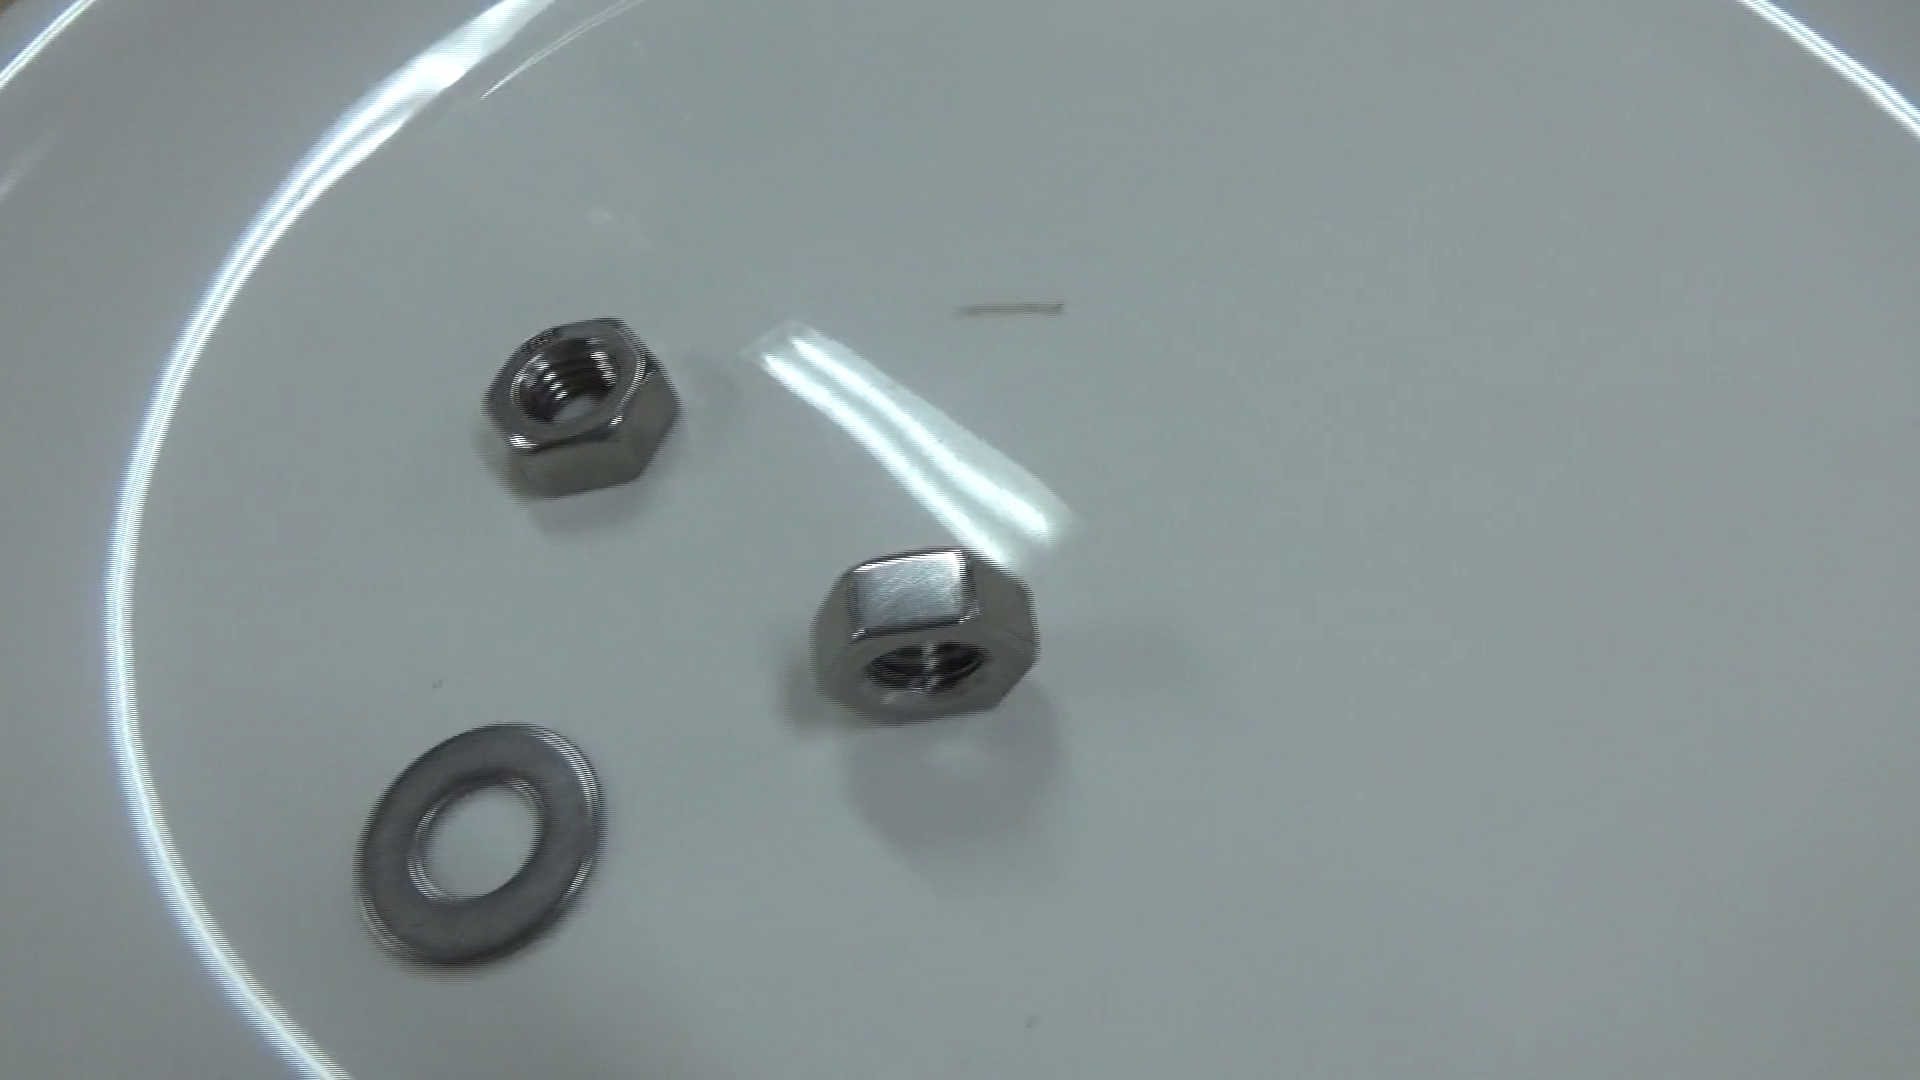nut: (791, 541, 1067, 729), (467, 311, 684, 513)
washer: (343, 708, 617, 975)
